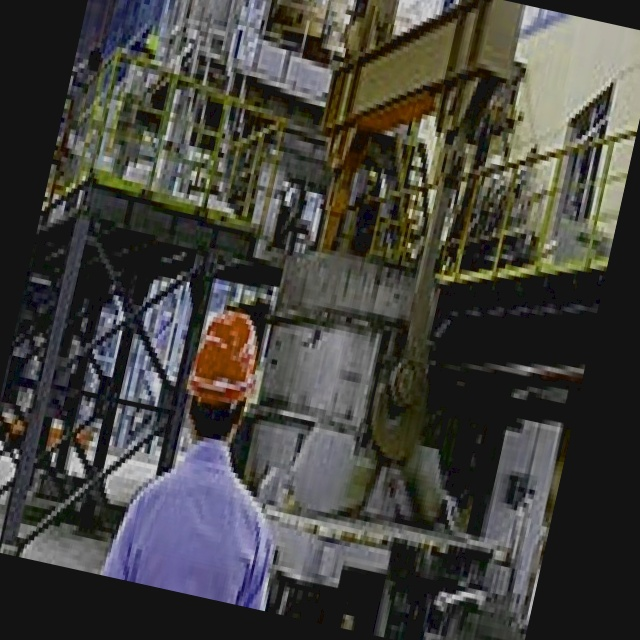Con_Casco: (180, 306, 266, 436)
Sin_Chaleco: (110, 430, 293, 610)
